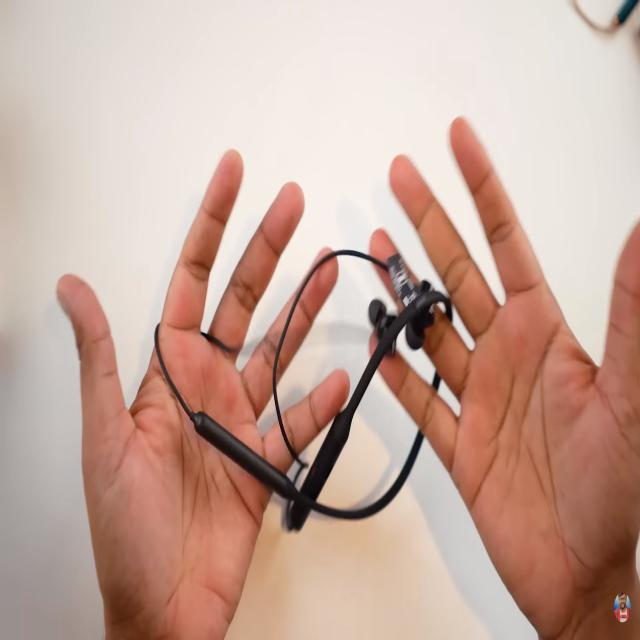Neckband: (153, 246, 453, 533)
